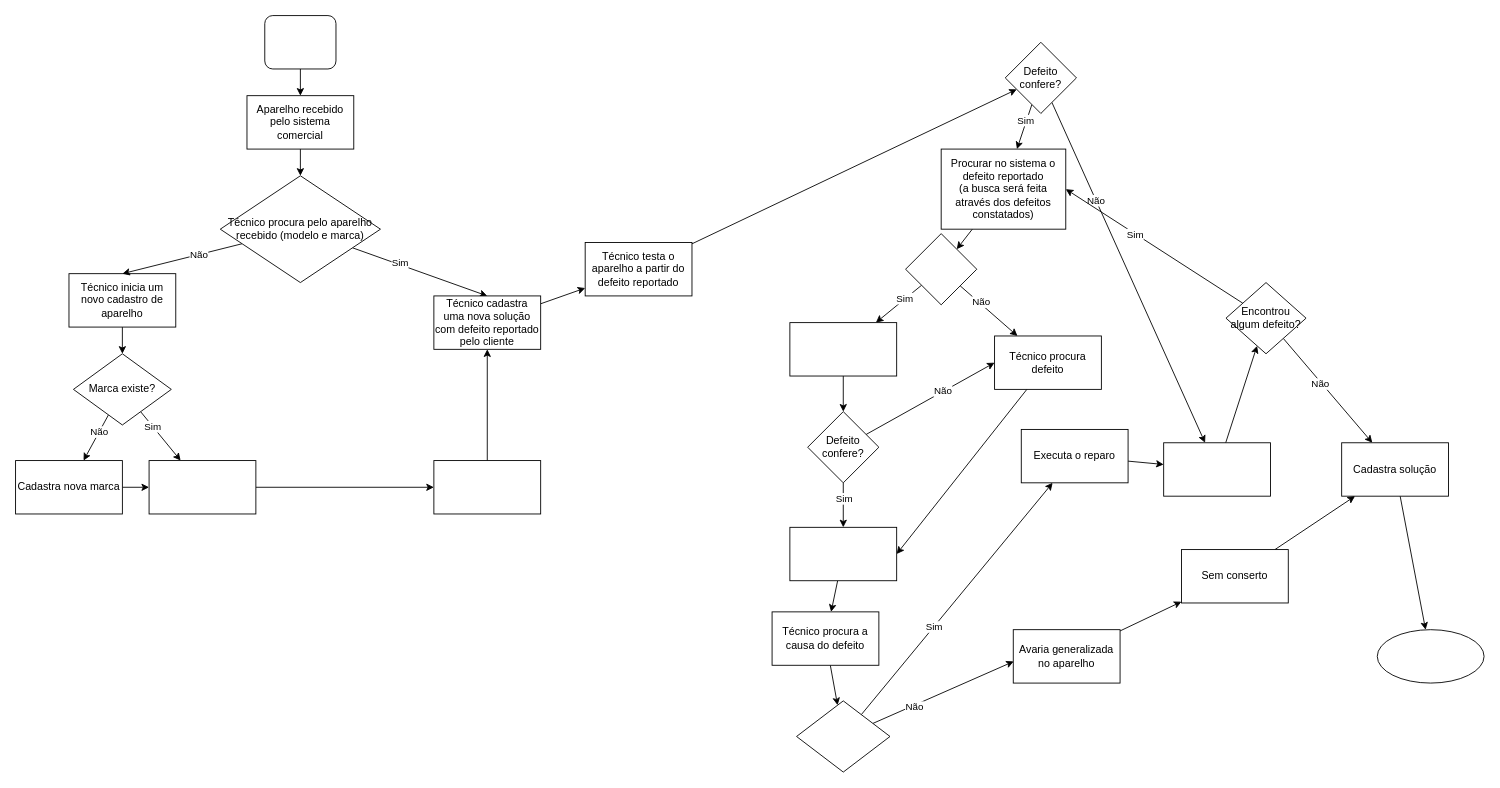
The diagram is 1500 pixels wide and 788 high, and some of its shapes have lost their labels. The shapes that lost their labels are listed below. From the top down, each one's centre as x and y in pixels, then its label:
pixel 300 42: INÍCIO
pixel 941 269: Defeito encontrado no sistema?
pixel 843 349: Técnico efetua teste de defeito na solução encontrada
pixel 202 487: Cadastrar modelo
pixel 487 487: Aparelho cadastrado
pixel 1216 469: Técnico realiza outros testes no aparelho
pixel 843 553: Técnico constata o defeito no sistema
pixel 1430 656: FIM
pixel 843 736: Causa encontrada?
